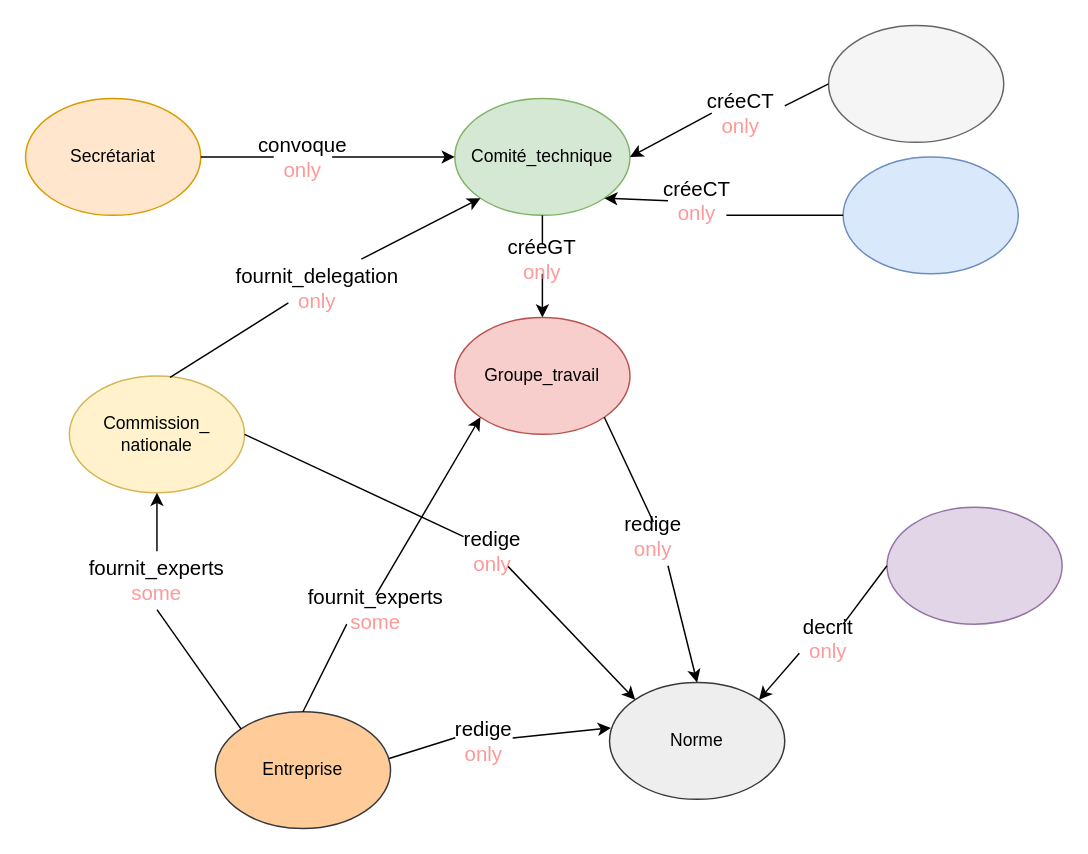
Image size: 1088x854. Some labels were removed from this diagram. Each missing label, with the centre of its shape:
Consortium: (x=930, y=214)
Mot_clé: (x=973, y=565)
Organisation_ normalisation: (x=915, y=83)
